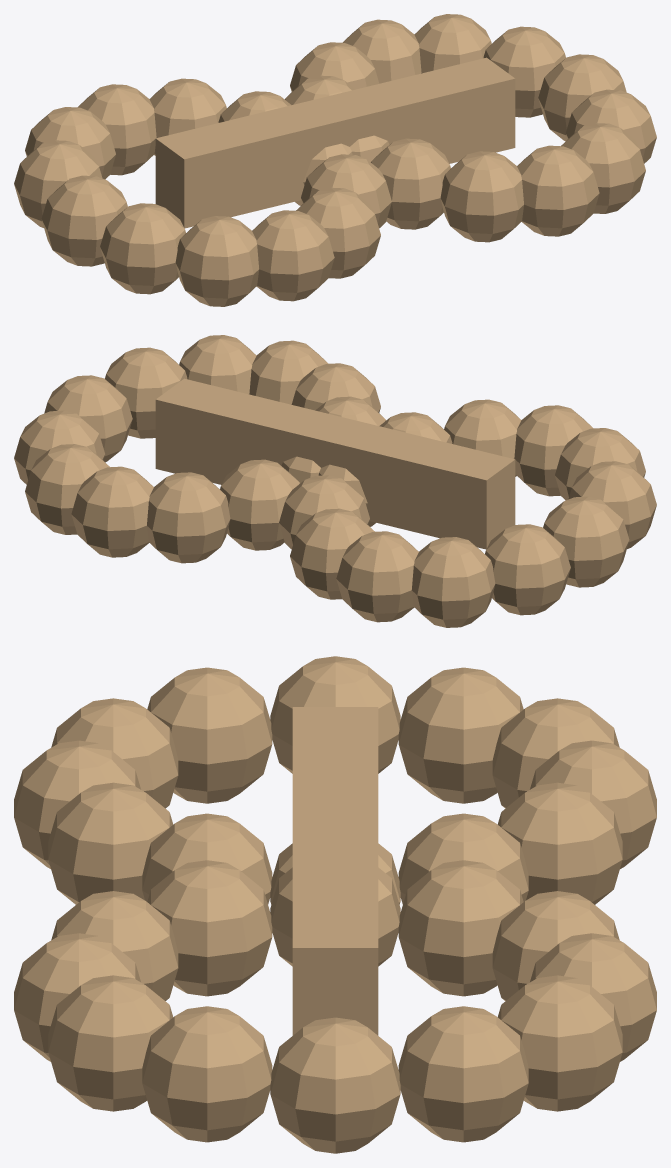
The model's file is supermarket-operations-pretzel-d0c909f0__26873.glb.
3 views of the same model, one above another, from view 1: azimuth 30°, elevation 25°; view 2: azimuth 150°, elevation 25°; view 3: azimuth 270°, elevation 25° (orthographic). The views are drawn at different scales.
Visible parts, largest first — view 1: pretzel; view 2: pretzel; view 3: pretzel.
Part boxes in pixels (left/top/right/bottom): pretzel: left=14, top=14, right=656, bottom=306; pretzel: left=14, top=335, right=656, bottom=627; pretzel: left=14, top=656, right=656, bottom=1153.
Size of the model in its own units: 0.174 by 0.027 by 0.1128.
